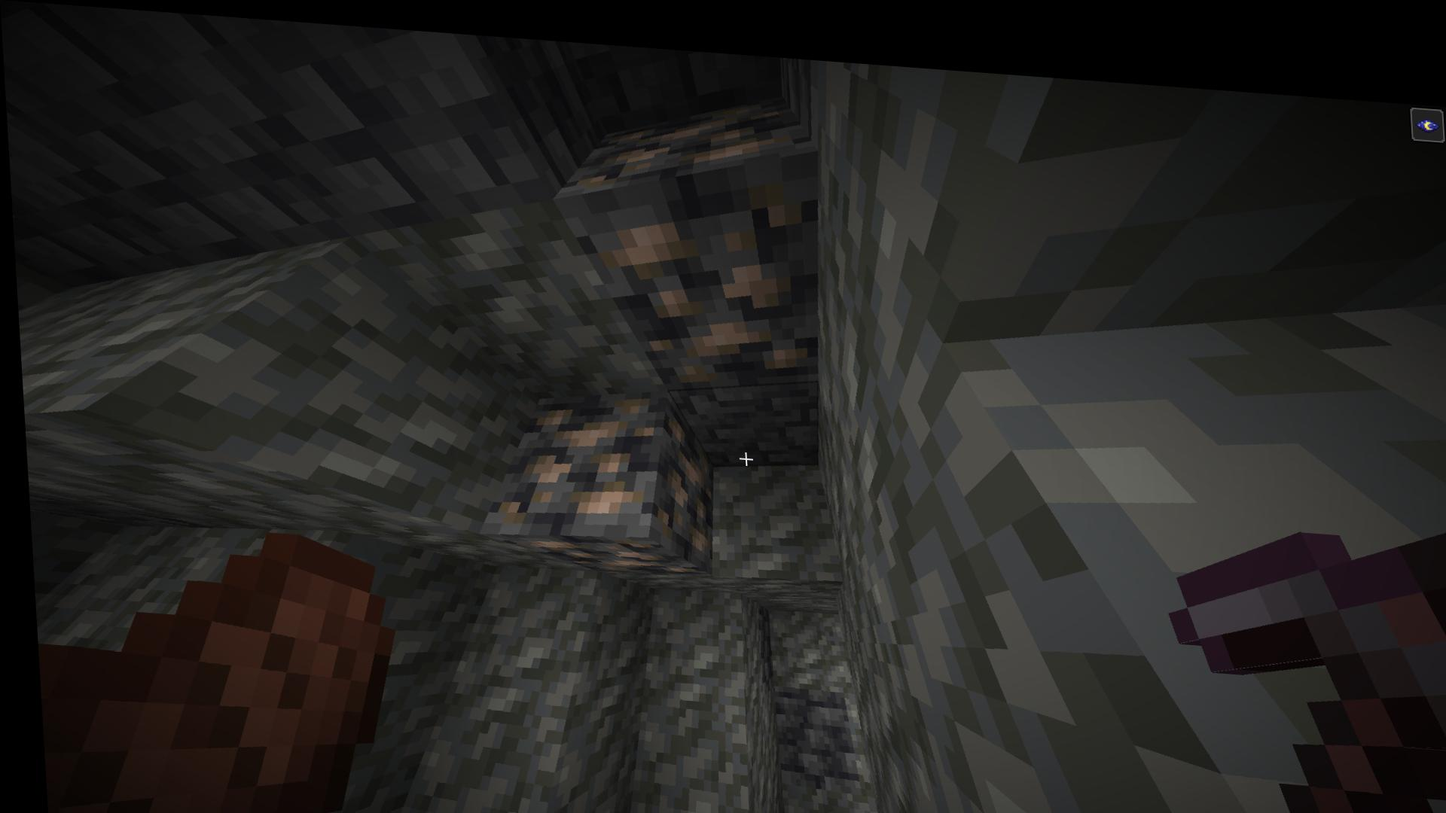iron ore: (588, 178, 830, 373), (554, 76, 823, 182), (482, 380, 653, 529), (648, 393, 721, 558), (504, 522, 697, 573)
